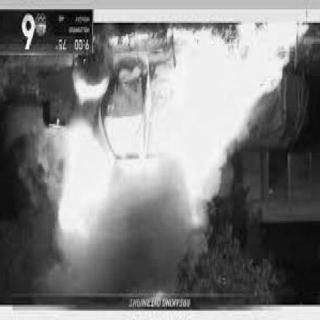Fire: (42, 21, 312, 302)
